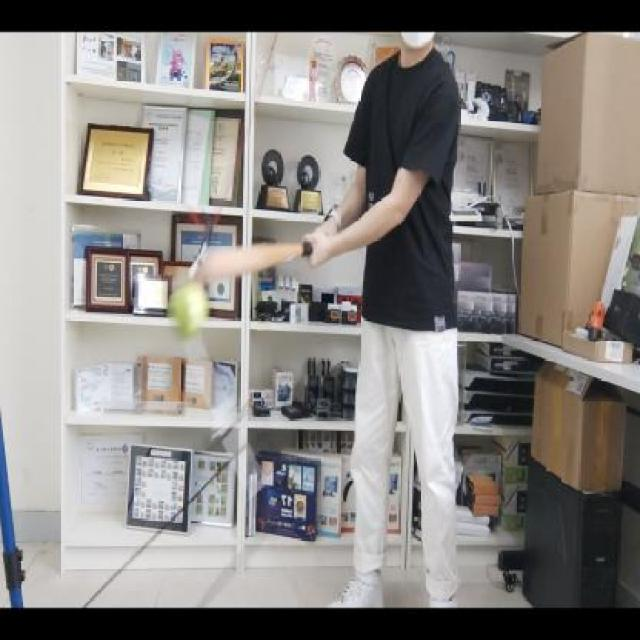baseball: (165, 281, 212, 339)
